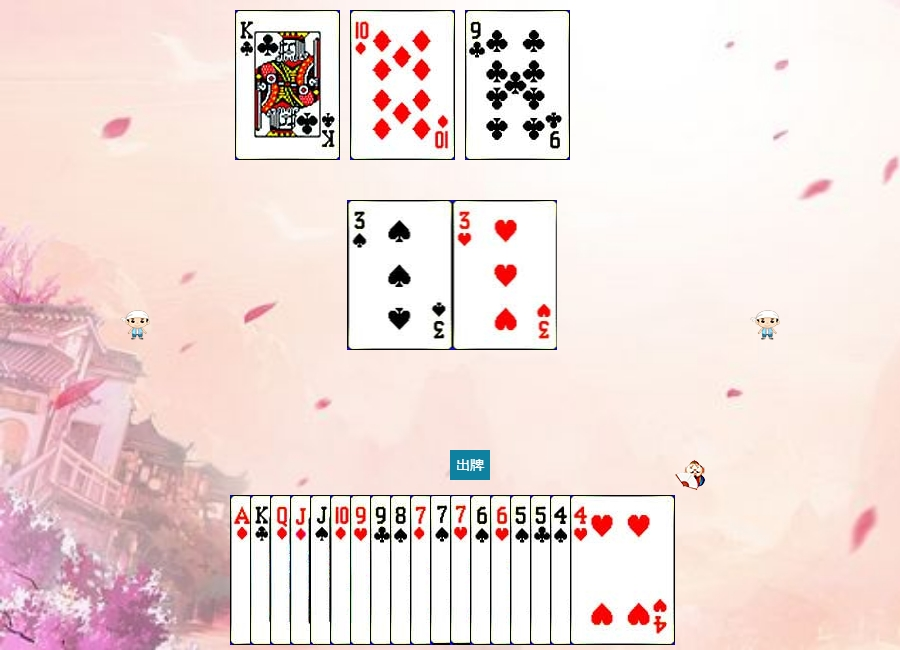10~1: (350, 10, 455, 160), (330, 495, 435, 645)
11~1: (290, 495, 395, 645)
11~4: (310, 495, 415, 645)
12~1: (270, 495, 375, 645)
13~2: (235, 10, 340, 160), (250, 495, 355, 645)
14~1: (230, 495, 335, 645)
3~3: (453, 200, 558, 350)
3~4: (348, 200, 453, 350)
4~3: (570, 495, 675, 645)
4~4: (550, 495, 655, 645)
5~2: (530, 495, 635, 645)
5~4: (510, 495, 615, 645)
6~3: (490, 495, 595, 645)
6~4: (470, 495, 575, 645)
7~1: (410, 495, 515, 645)
7~3: (450, 495, 555, 645)
7~4: (430, 495, 535, 645)
8~4: (390, 495, 495, 645)
9~2: (465, 10, 570, 160), (370, 495, 475, 645)
9~3: (350, 495, 455, 645)
